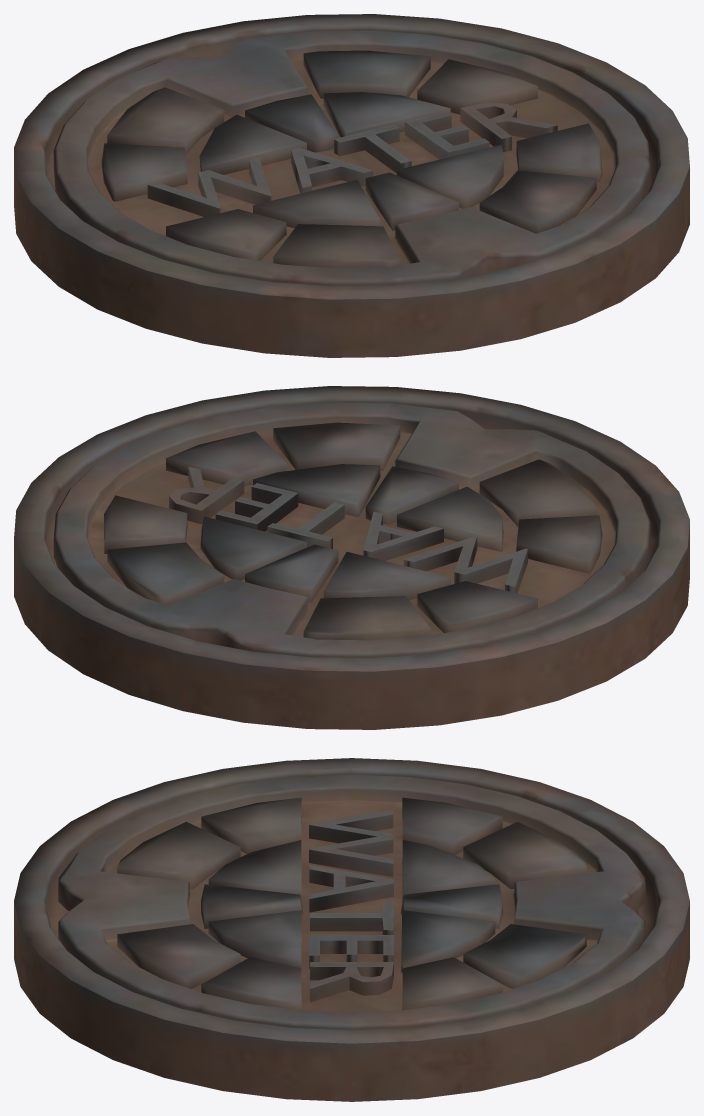
File: water_manhole_cover.glb
The picture shows the model from 3 angles, top to bottom: view 1: azimuth 30°, elevation 25°; view 2: azimuth 150°, elevation 25°; view 3: azimuth 270°, elevation 25°; orthographic projection.
Parts seen in each view (by area): view 1: water_manhole_cover_frame; view 2: water_manhole_cover_frame; view 3: water_manhole_cover_frame.
Boxes of the visible parts, x1,y1,x2,y2 form: water_manhole_cover_frame: (14,14,689,357); water_manhole_cover_frame: (14,386,689,729); water_manhole_cover_frame: (14,758,689,1101).
Bounding box in the file's own units: 0.6908 × 0.0676 × 0.6908.
1 material, 1 textured.
